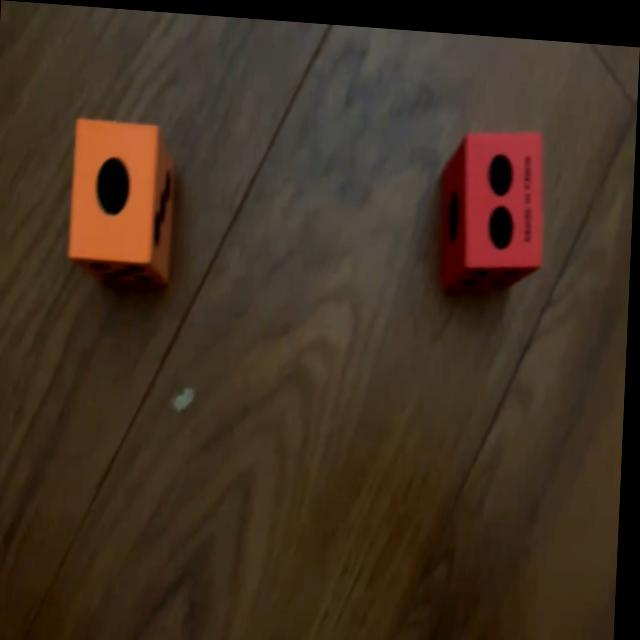cube: (437, 116, 548, 284)
